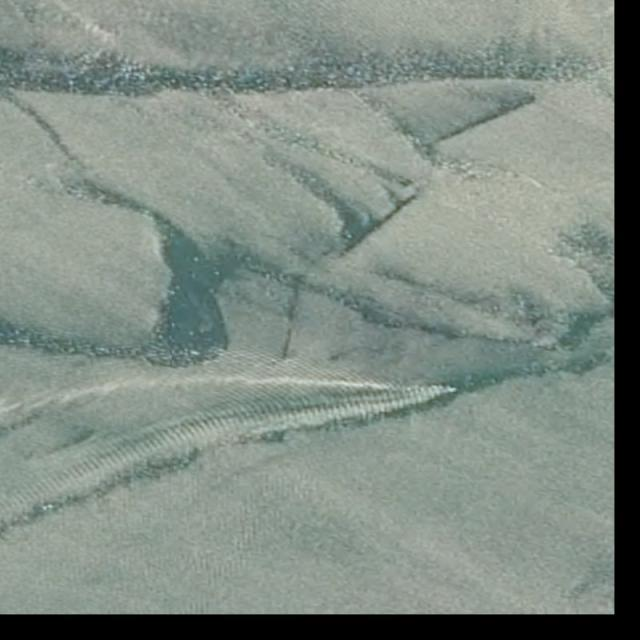ship: (446, 386, 458, 394)
